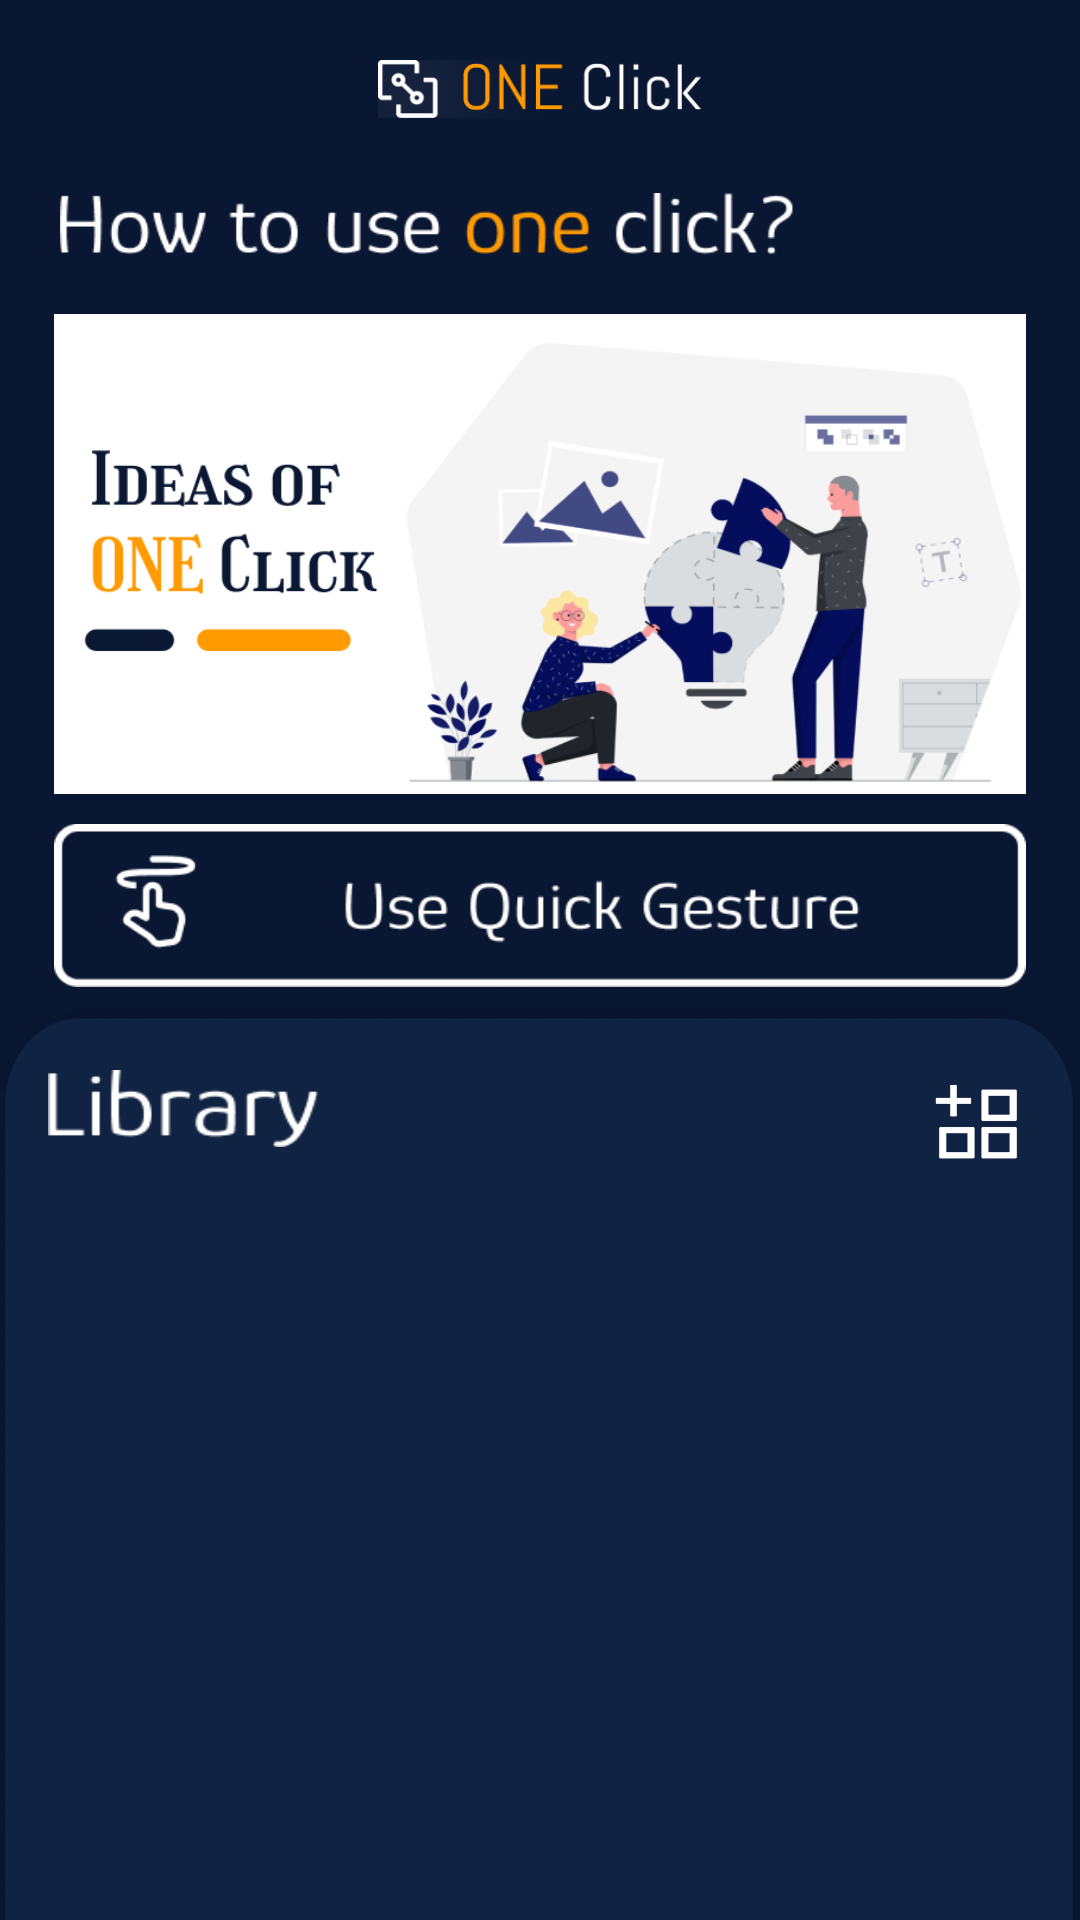

Named icons in this screenshot (1080 × 1920) and their centers, (x,y):
addnewest: (976,1122)
